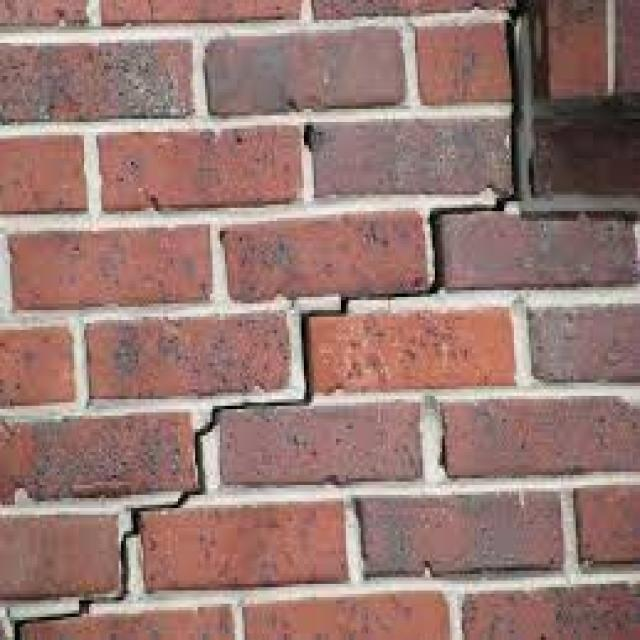Crack: (7, 6, 519, 636)
